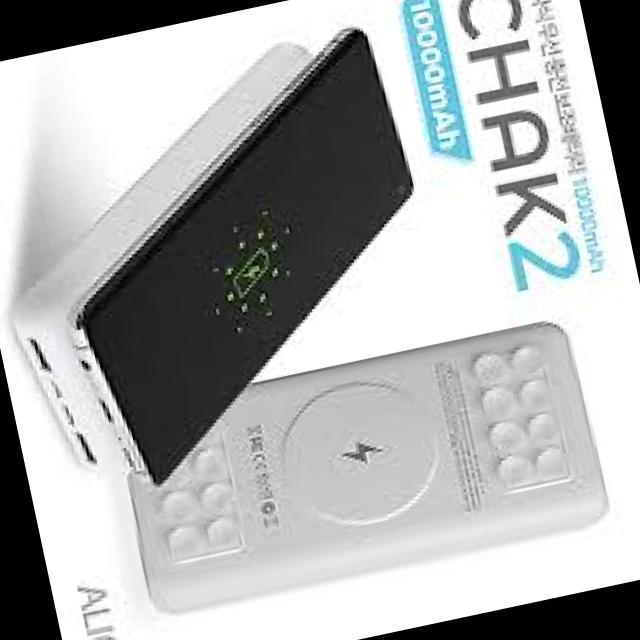power_bank: (0, 37, 386, 487), (103, 310, 612, 624)
